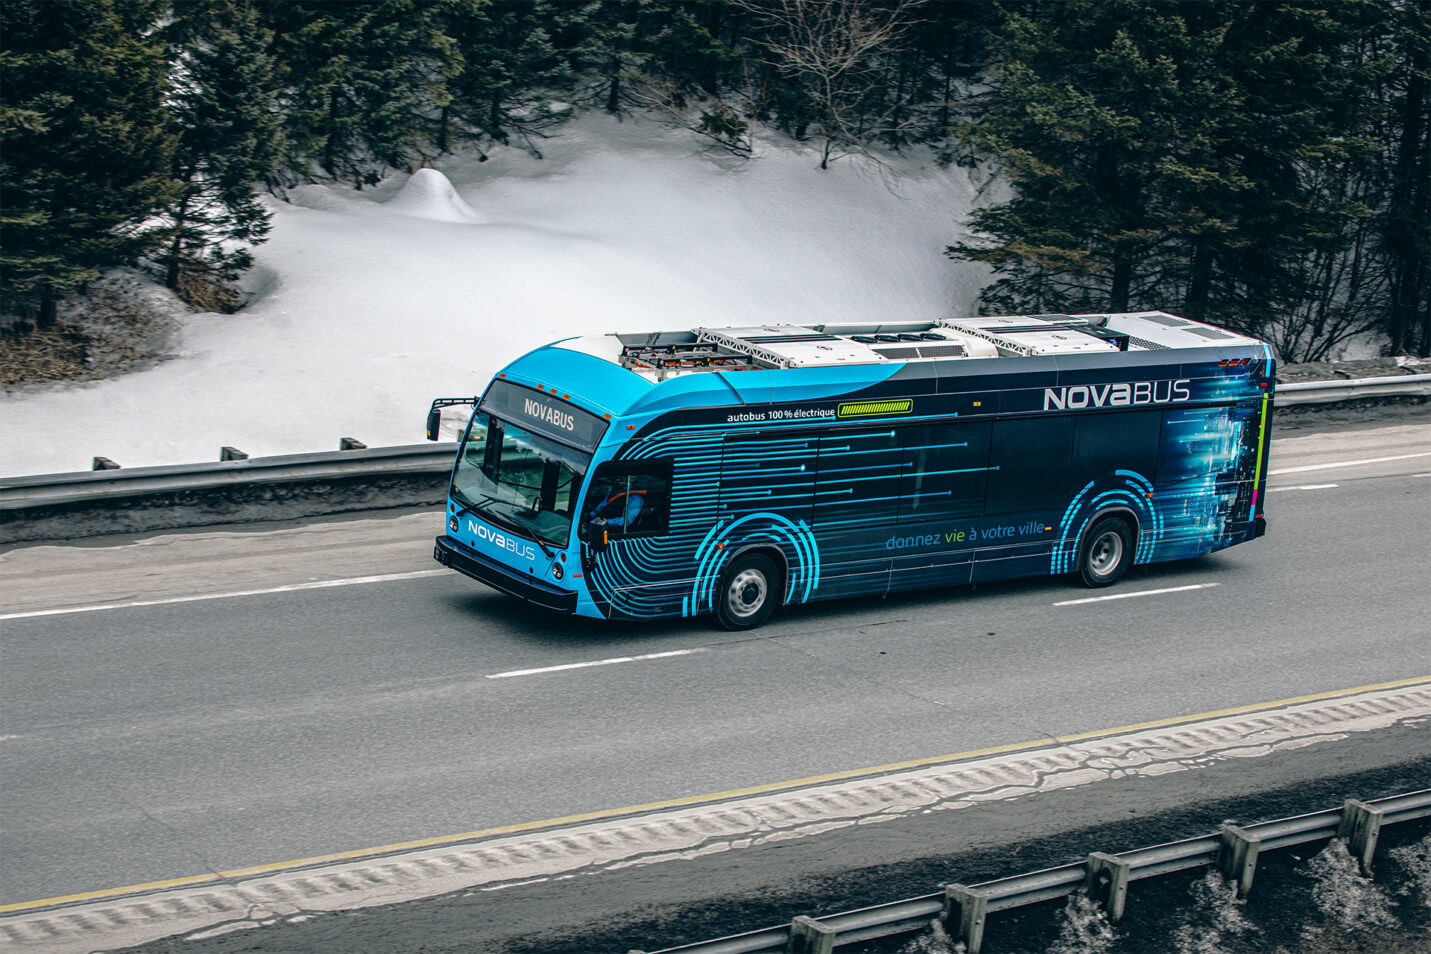autobus: (422, 308, 1277, 636)
